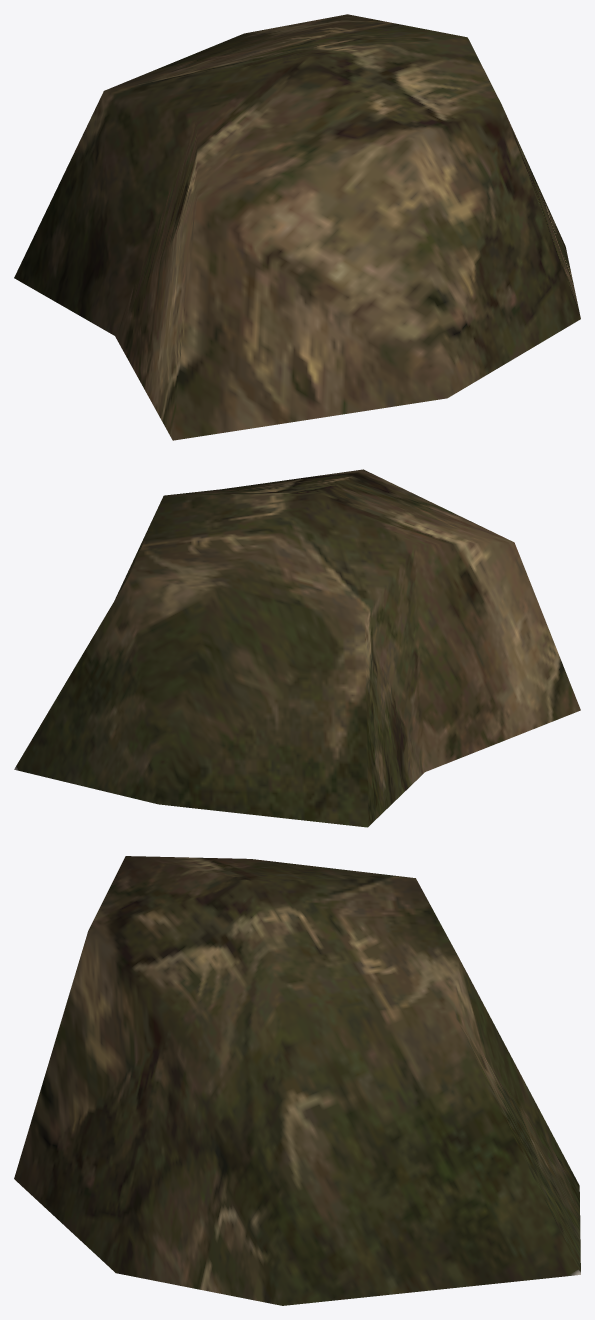
The model's file is zshh_shitou_06.FBX.
3 views of the same model, one above another, from view 1: azimuth 30°, elevation 25°; view 2: azimuth 150°, elevation 25°; view 3: azimuth 270°, elevation 25° (orthographic). The views are drawn at different scales.
Parts seen in each view (by area): view 1: zshh_shitou_06; view 2: zshh_shitou_06; view 3: zshh_shitou_06.
Boxes of the visible parts, x1,y1,x2,y2 form: zshh_shitou_06: [14, 14, 580, 440]; zshh_shitou_06: [14, 469, 580, 827]; zshh_shitou_06: [14, 856, 580, 1305].
Size of the model in its own units: 90.17 by 84.23 by 46.46.
